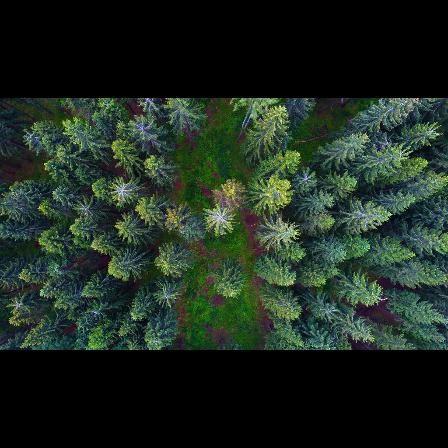Sick: (150, 283, 183, 312), (106, 176, 137, 205), (206, 205, 234, 236), (7, 296, 30, 314)
